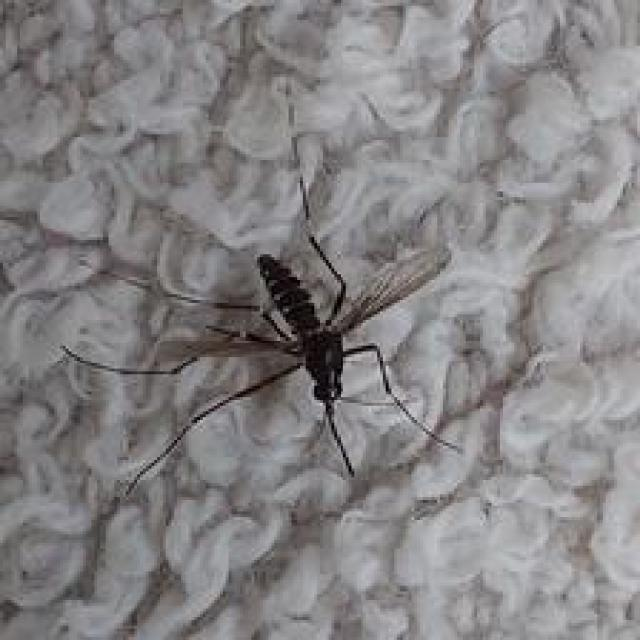Aedes albopictus: (59, 173, 464, 501)
